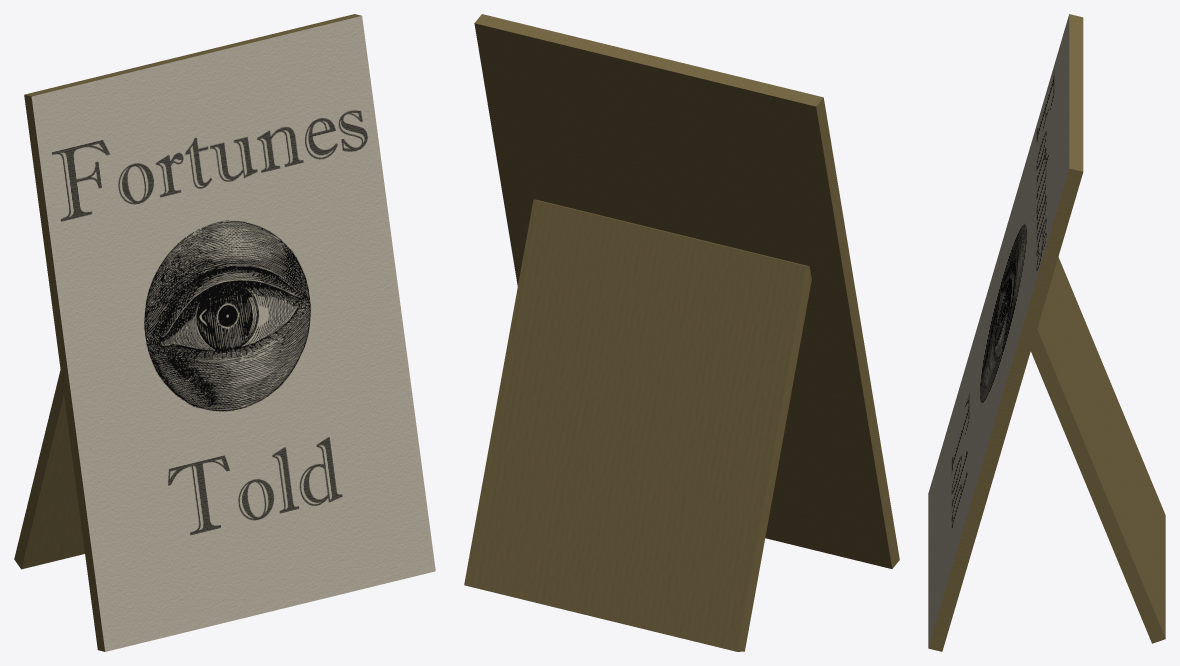
Rendered from fortune.teller.sign.glb.
3 views of the same model, side by side, from view 1: azimuth 30°, elevation 25°; view 2: azimuth 150°, elevation 25°; view 3: azimuth 270°, elevation 25° (orthographic). The views are drawn at different scales.
Visible parts, largest first — view 1: Fortune.sign; view 2: Fortune.sign; view 3: Fortune.sign.
Part boxes in pixels (bbox=[...]): Fortune.sign: bbox=[14, 14, 435, 651]; Fortune.sign: bbox=[464, 14, 899, 651]; Fortune.sign: bbox=[928, 14, 1165, 651].
Size of the model in its own units: 2 by 2.96 by 1.3.
Materials: 1 (1 with a texture image).
